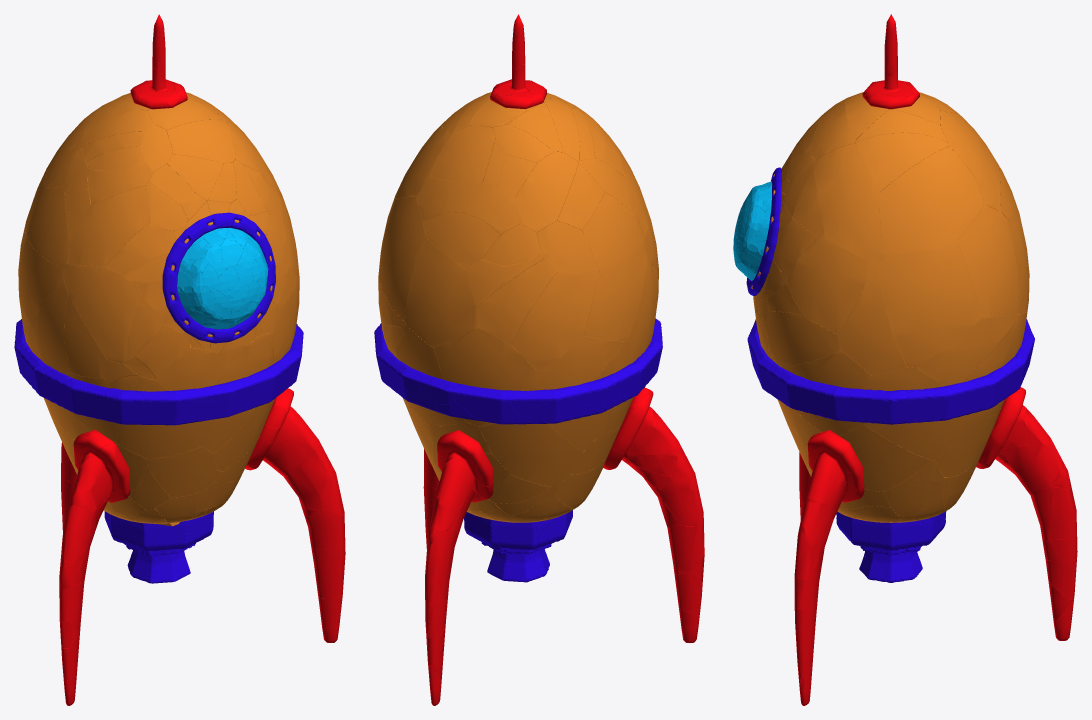
Rendered from Rocket.fbx.
3 views of the same model, side by side, from view 1: azimuth 30°, elevation 25°; view 2: azimuth 150°, elevation 25°; view 3: azimuth 270°, elevation 25° (orthographic).
Visible parts, largest first — view 1: boddy_cell.163, boddy_cell.187, boddy_cell.062, boddy_cell.210, boddy_cell.092, boddy_cell, boddy_cell.081, win-frem_cell.060, boddy_cell.204, boddy_cell.216, boddy_cell.093, win-frem_cell.027 (+64 smaller); view 2: boddy_cell.039, boddy_cell.148, boddy_cell.164, boddy_cell.028, boddy_cell.204, boddy_cell.001, boddy_cell.043, boddy_cell.041, boddy_cell.010, boddy_cell.210, boddy_cell.069, boddy_cell.152 (+54 smaller); view 3: boddy_cell.072, boddy_cell.004, boddy_cell.110, boddy_cell.233, boddy_cell.001, boddy_cell.097, boddy_cell.171, boddy_cell.150, boddy_cell.116, boddy_cell.101, boddy_cell.206, boddy_cell.113 (+44 smaller).
Boxes of the visible parts, left/top/right/bottom form: boddy_cell.163: left=63, top=264, right=142, bottom=363; boddy_cell.187: left=67, top=185, right=151, bottom=266; boddy_cell.062: left=115, top=420, right=209, bottom=458; boddy_cell.210: left=27, top=186, right=69, bottom=269; boddy_cell.092: left=146, top=446, right=216, bottom=498; boddy_cell: left=166, top=119, right=235, bottom=163; boddy_cell.081: left=33, top=277, right=70, bottom=373; win-frem_cell.060: left=39, top=371, right=130, bottom=419; boddy_cell.204: left=19, top=239, right=62, bottom=328; boddy_cell.216: left=64, top=294, right=107, bottom=378; boddy_cell.093: left=156, top=344, right=225, bottom=390; win-frem_cell.027: left=136, top=390, right=225, bottom=425; boddy_cell.039: left=405, top=238, right=477, bottom=347; boddy_cell.148: left=511, top=271, right=596, bottom=371; boddy_cell.164: left=434, top=326, right=538, bottom=426; boddy_cell.028: left=479, top=423, right=583, bottom=486; boddy_cell.204: left=583, top=247, right=646, bottom=341; boddy_cell.001: left=381, top=197, right=426, bottom=321; boddy_cell.043: left=416, top=177, right=520, bottom=234; boddy_cell.041: left=475, top=258, right=558, bottom=344; boddy_cell.010: left=513, top=151, right=578, bottom=232; boddy_cell.210: left=582, top=192, right=645, bottom=275; boddy_cell.069: left=422, top=212, right=500, bottom=268; boddy_cell.152: left=429, top=125, right=495, bottom=182; boddy_cell.072: left=876, top=241, right=982, bottom=367; boddy_cell.004: left=879, top=146, right=983, bottom=258; boddy_cell.110: left=813, top=143, right=882, bottom=264; boddy_cell.233: left=786, top=238, right=871, bottom=334; boddy_cell.001: left=957, top=204, right=1018, bottom=317; boddy_cell.097: left=837, top=263, right=906, bottom=376; boddy_cell.171: left=863, top=367, right=977, bottom=460; boddy_cell.150: left=916, top=313, right=1017, bottom=385; boddy_cell.116: left=840, top=424, right=931, bottom=491; boddy_cell.101: left=765, top=311, right=841, bottom=365; boddy_cell.206: left=855, top=132, right=949, bottom=192; boddy_cell.113: left=779, top=350, right=872, bottom=435.
Size of the model in its own units: 5.41 by 11.55 by 5.74.
